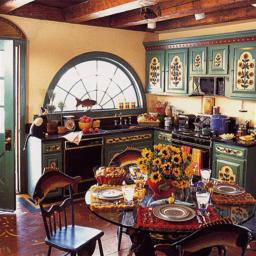Electrodomestico: (69, 137, 102, 196), (180, 128, 214, 181)
Puerta: (0, 44, 21, 212)
Ventana: (41, 51, 145, 117)
